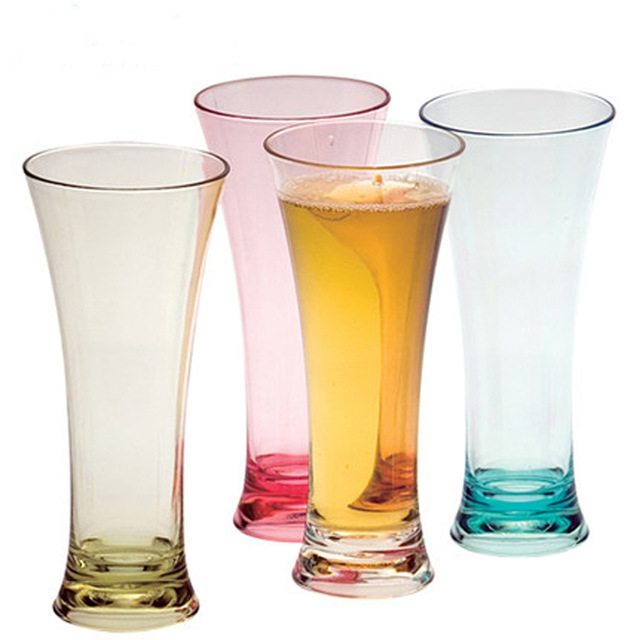plastic_glass: (20, 137, 239, 640)
